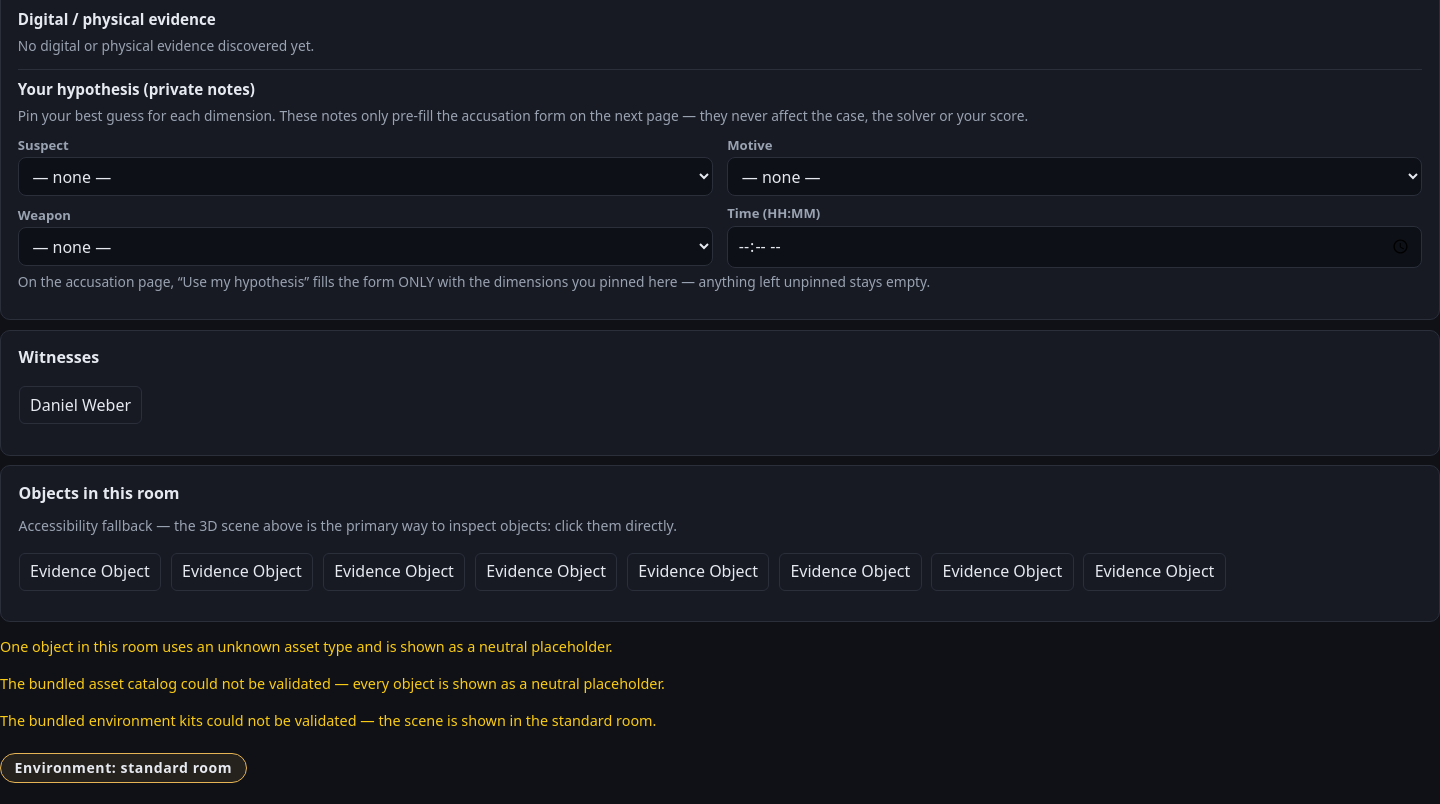
Test: Phase 39 — fresh saved replay starts with ZERO answered witness questions › real file + a prior session's per-file storage -> 0 answered markers, neutral hint, fresh ask
(page scrolled)
Click the button with test id "witness-daniel_weber": (80, 405) [19,386,142,424]
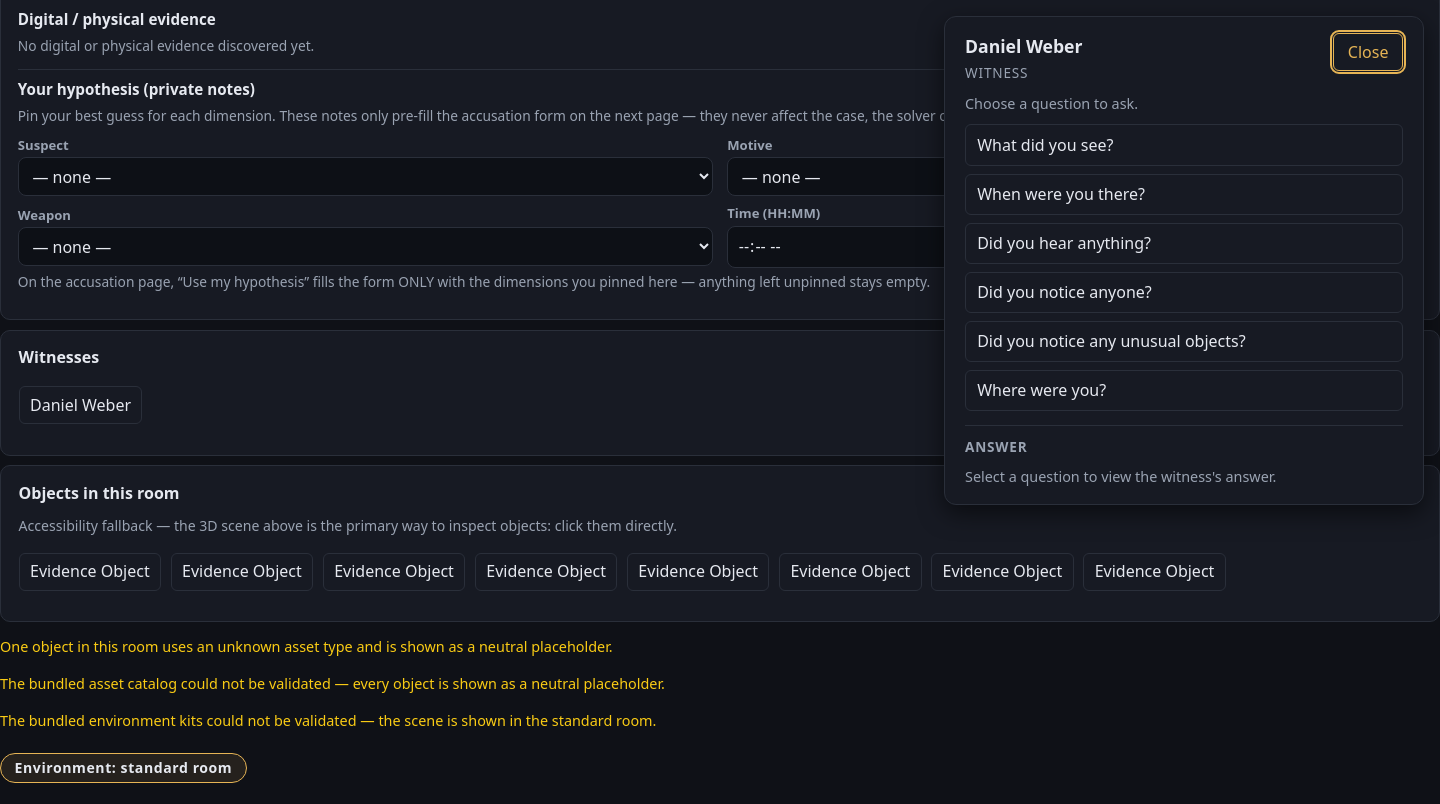
Result: the text "Select a question to view the witness's answer." is shown at [965,466,1276,486]
Click the button with test id "witness-question-OBSERVATION": (1045, 145) [965,124,1403,166]
(page scrolled)
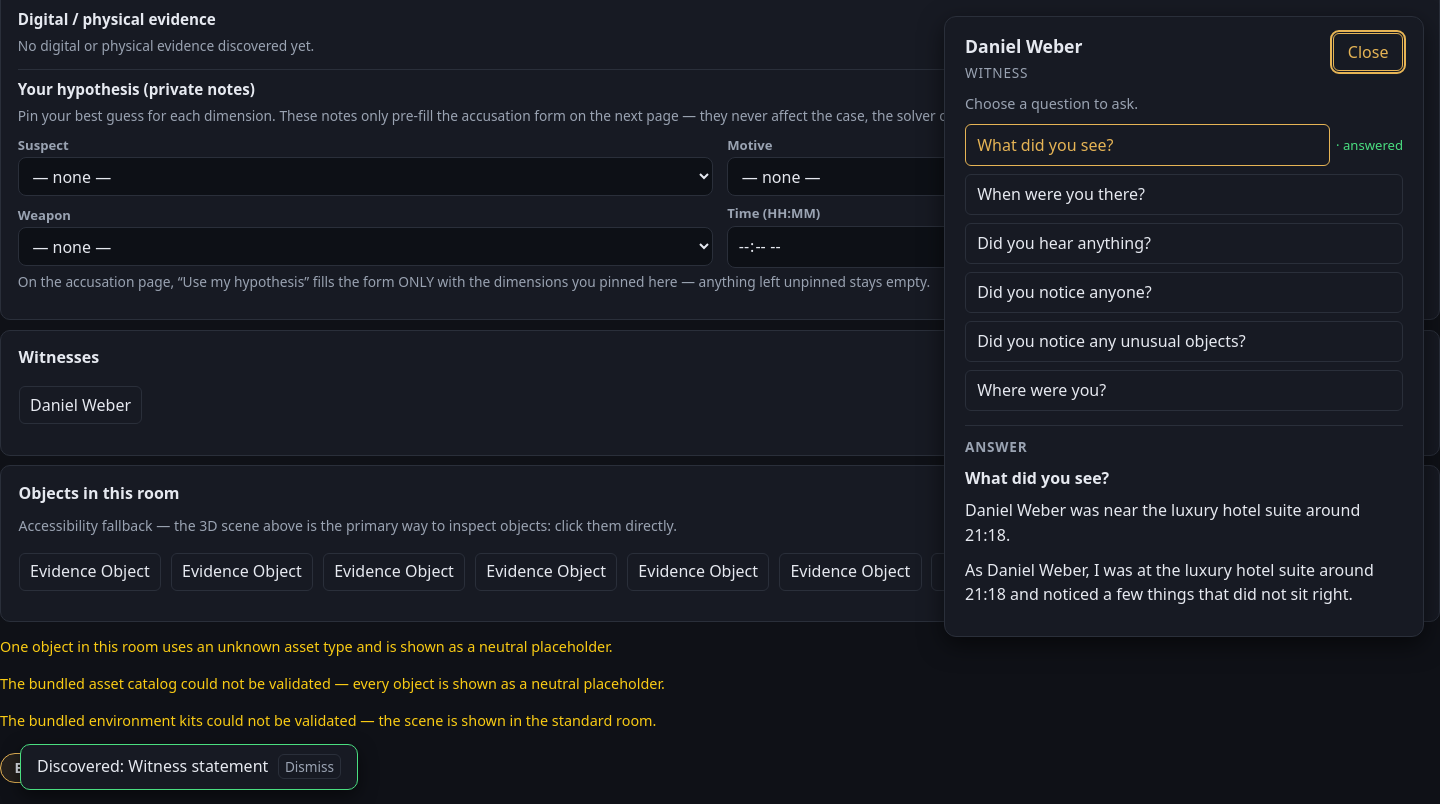
Result: the text with test id "witness-statement-summary" reads "Daniel Weber was near the luxury hotel suite around 21:18." at [965,499,1360,546]
